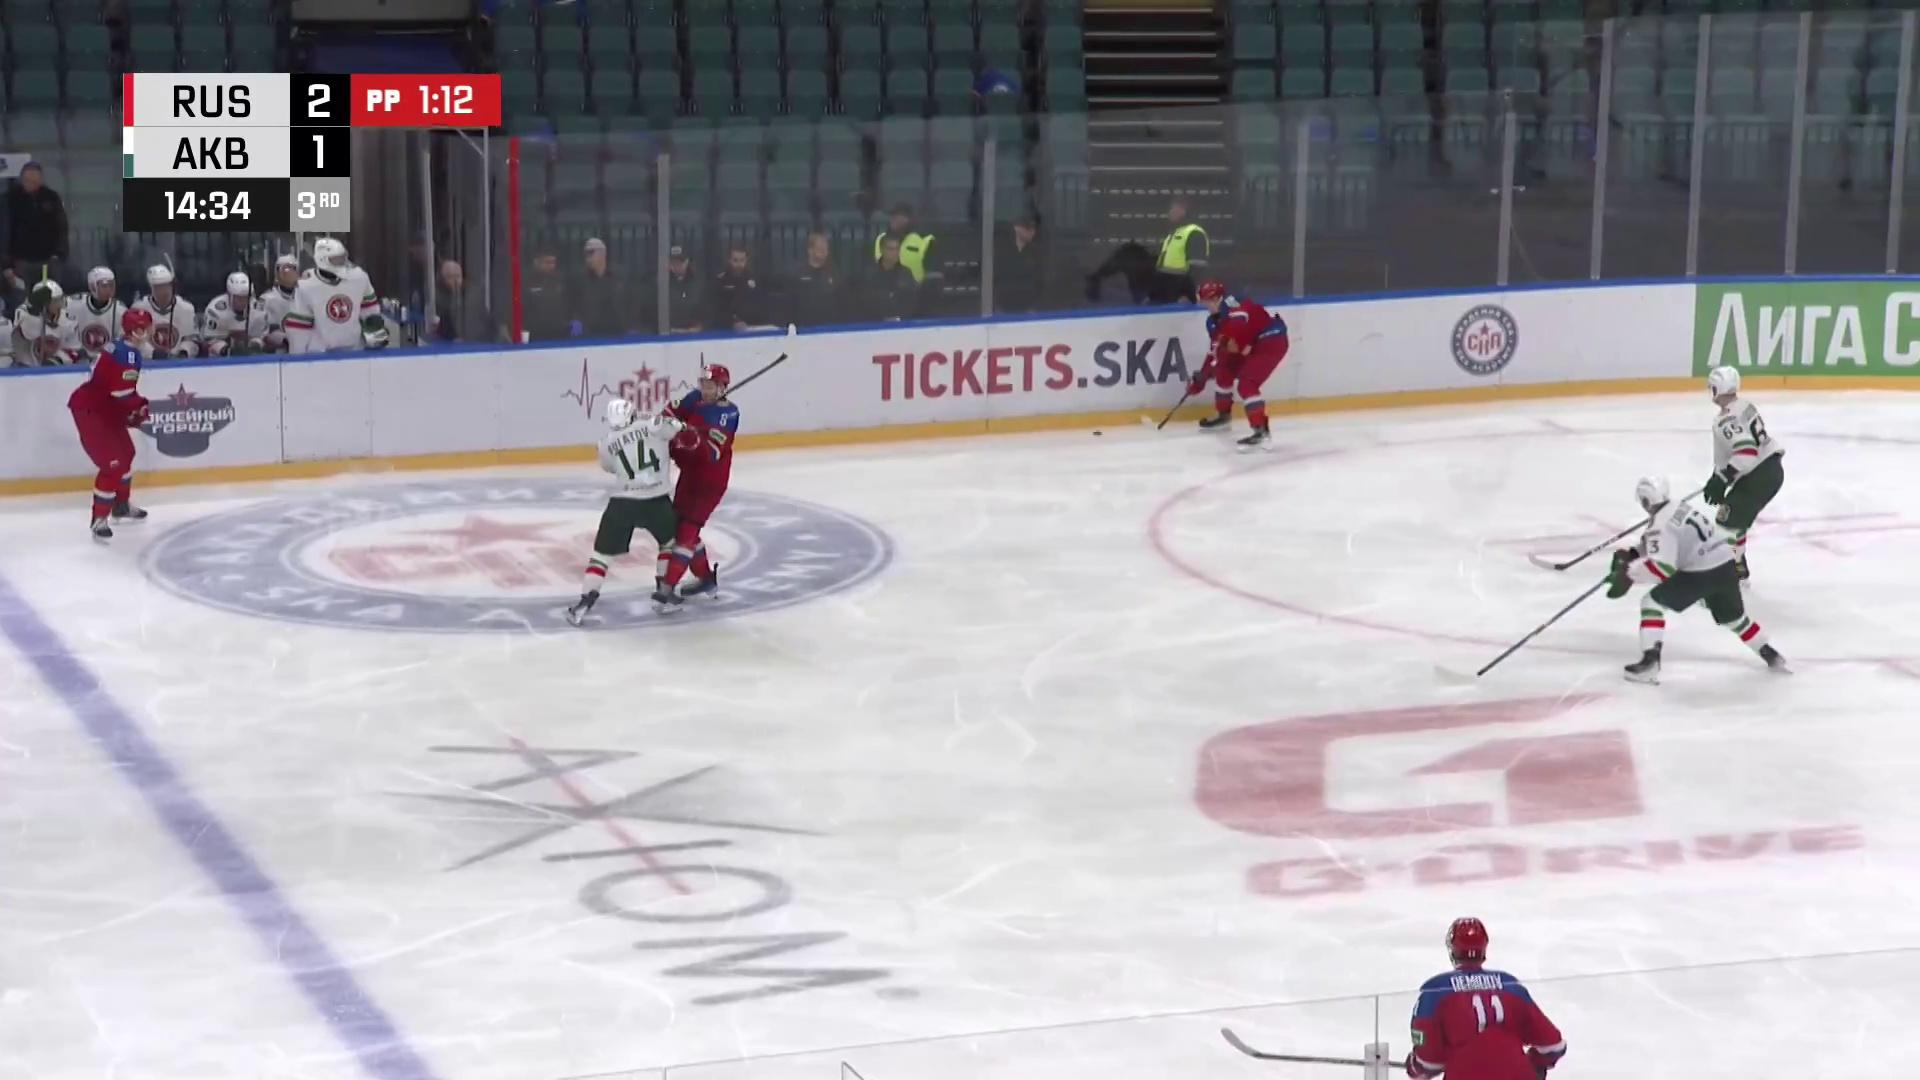ball: (1092, 430, 1104, 436)
